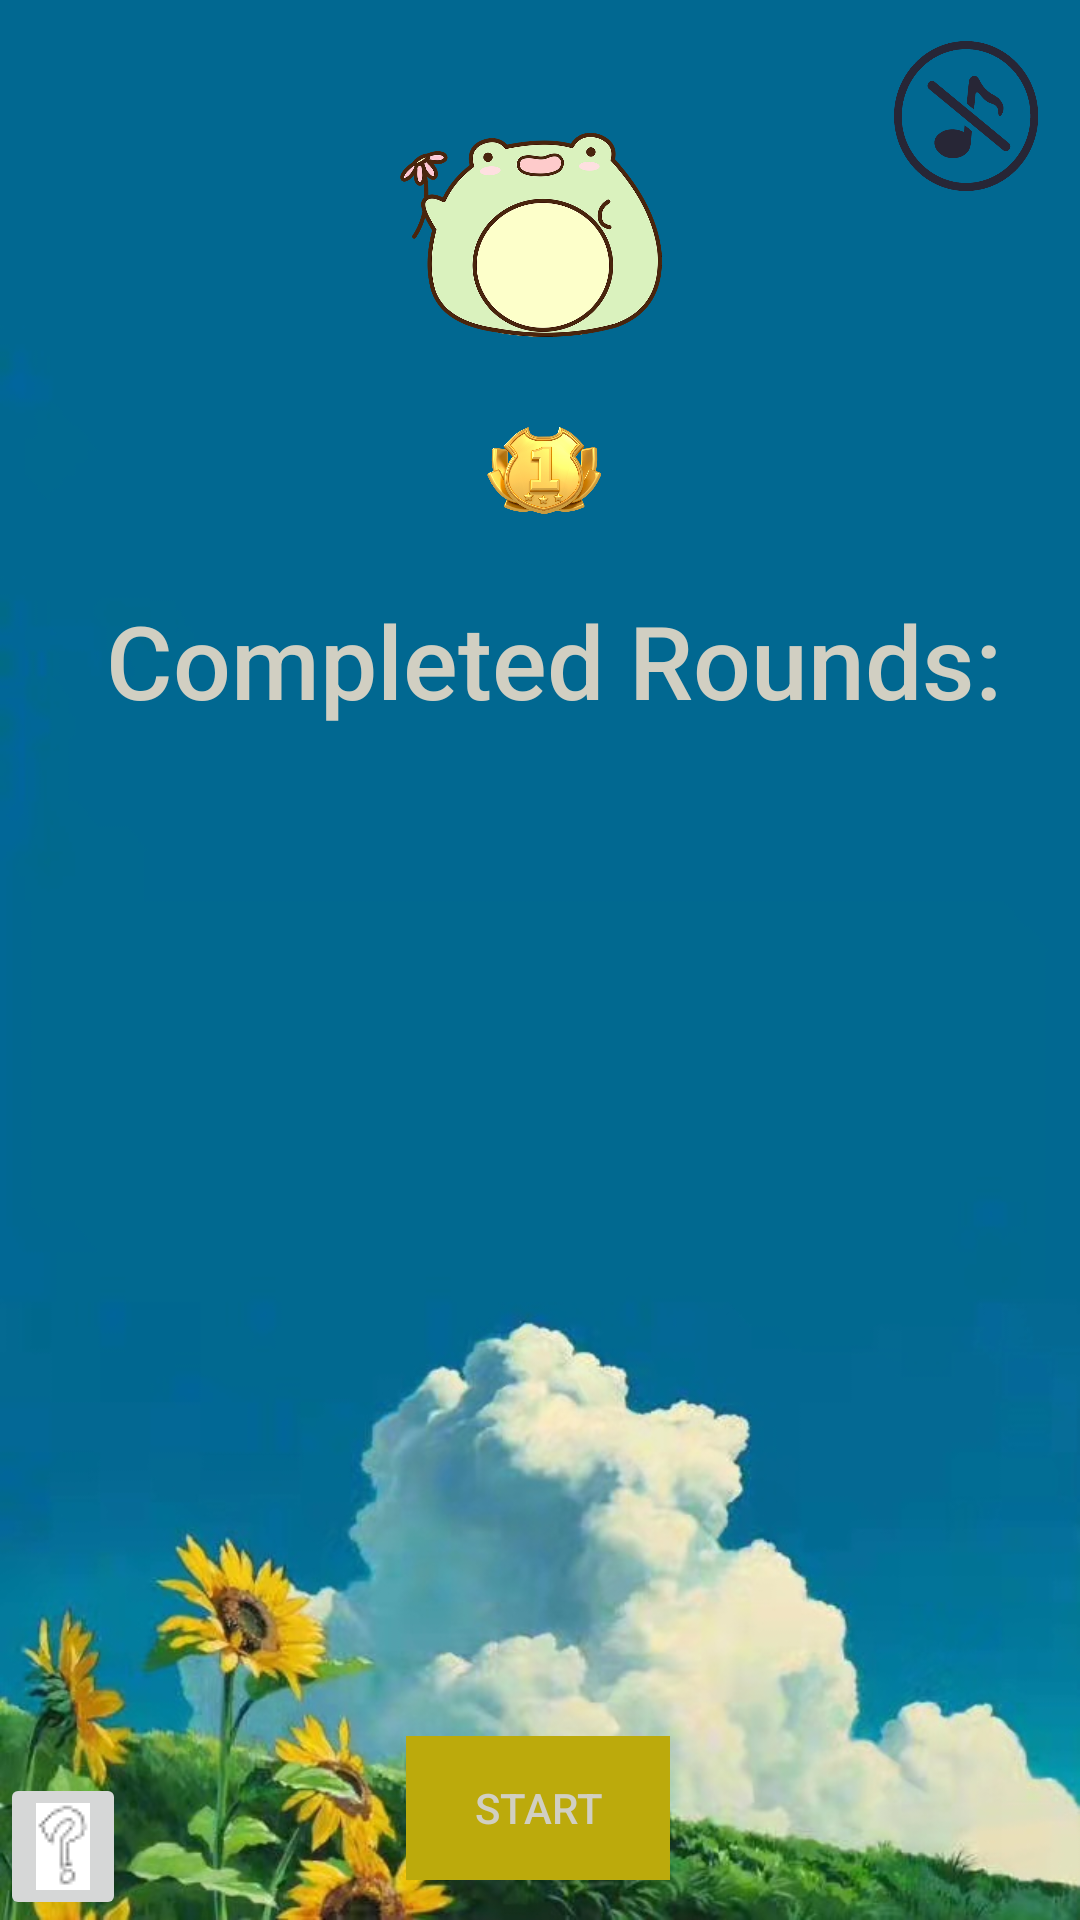

Icons on this 1080 × 1920 Android screen, each with the point to tap as [x,y]:
badge: [544,470]
questionmark: [63,1846]
